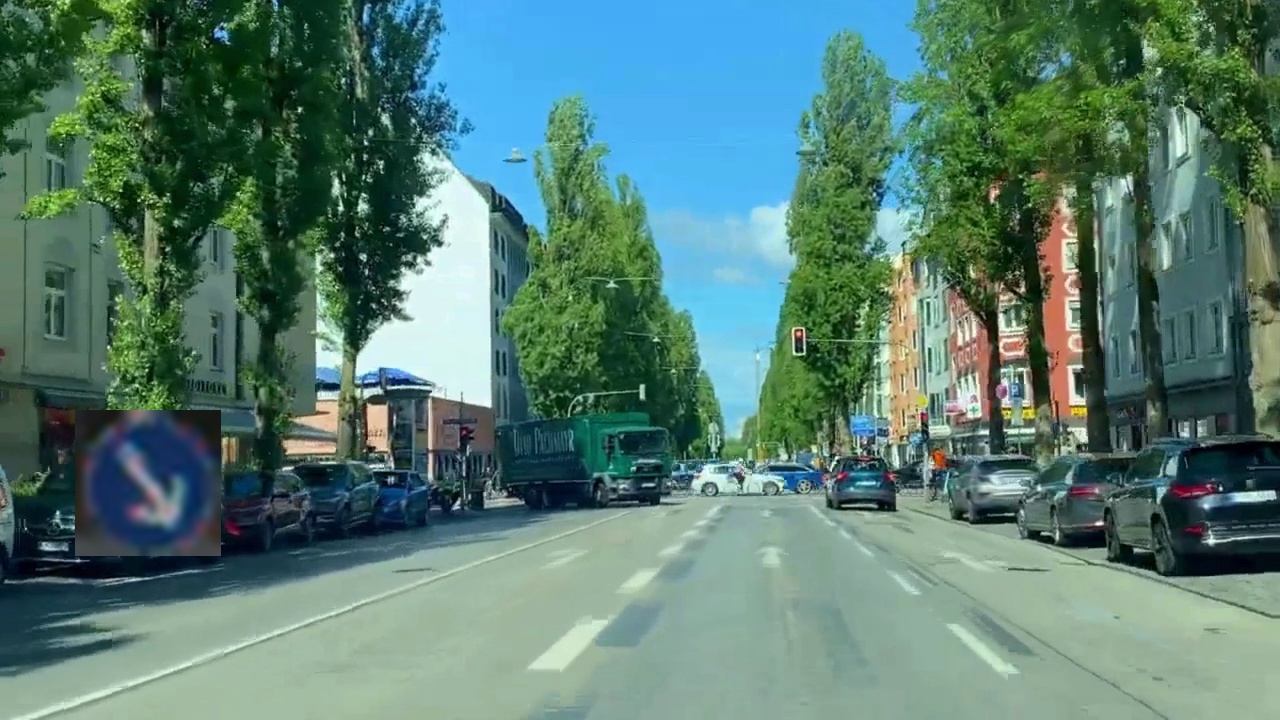Keep right: (75, 410, 221, 556)
